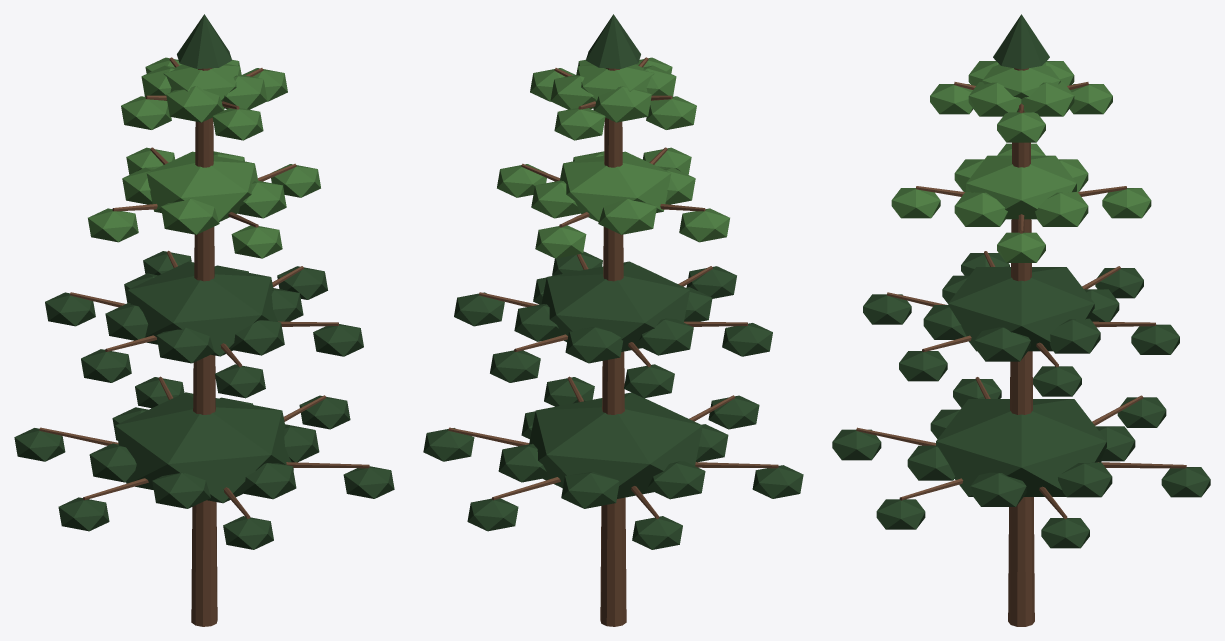
Rendered from pine_tree.glb.
The picture shows the model from 3 angles, left to right: view 1: azimuth 30°, elevation 25°; view 2: azimuth 150°, elevation 25°; view 3: azimuth 270°, elevation 25°; orthographic projection.
Visible parts, largest first — view 1: PineTree_Needle_Dark, PineTree_Needle_Light, PineTree_Bark; view 2: PineTree_Needle_Dark, PineTree_Needle_Light, PineTree_Bark; view 3: PineTree_Needle_Dark, PineTree_Needle_Light, PineTree_Bark.
Boxes of the visible parts, <box> form: PineTree_Needle_Dark: <box>14,14,394,549</box>; PineTree_Needle_Light: <box>88,57,320,258</box>; PineTree_Bark: <box>39,57,369,626</box>; PineTree_Needle_Dark: <box>423,14,803,549</box>; PineTree_Needle_Light: <box>497,57,729,258</box>; PineTree_Bark: <box>448,57,778,626</box>; PineTree_Needle_Dark: <box>832,14,1210,548</box>; PineTree_Needle_Light: <box>891,61,1151,262</box>; PineTree_Bark: <box>856,68,1186,626</box>.
Bounding box in the file's own units: 0.3975 × 0.7 × 0.3949.
